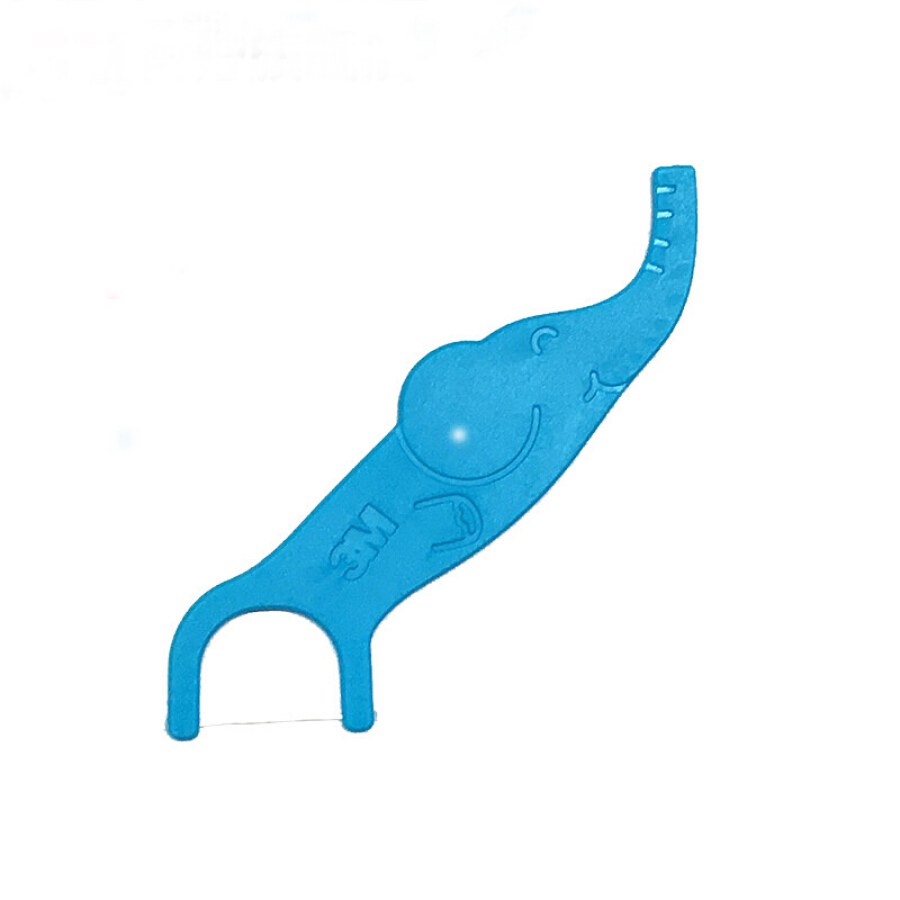3M: (327, 494, 399, 591)
